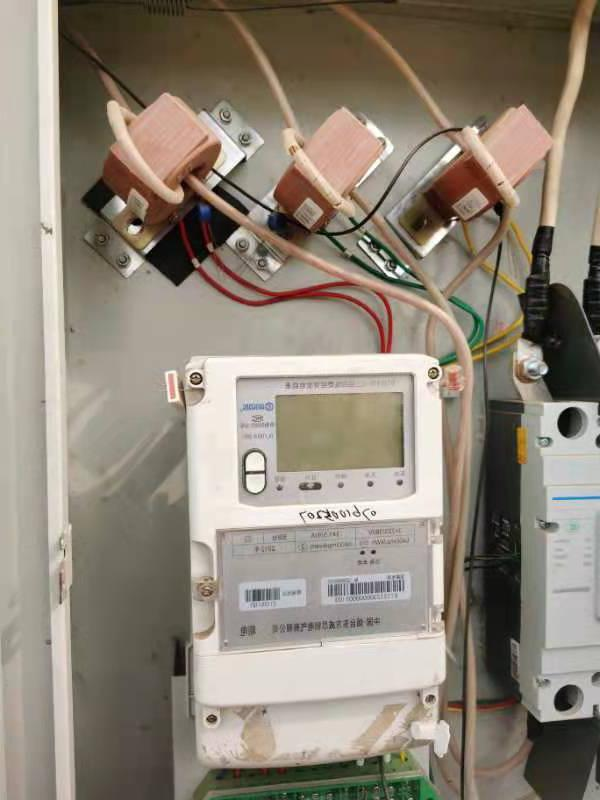digital: (187, 352, 447, 704)
